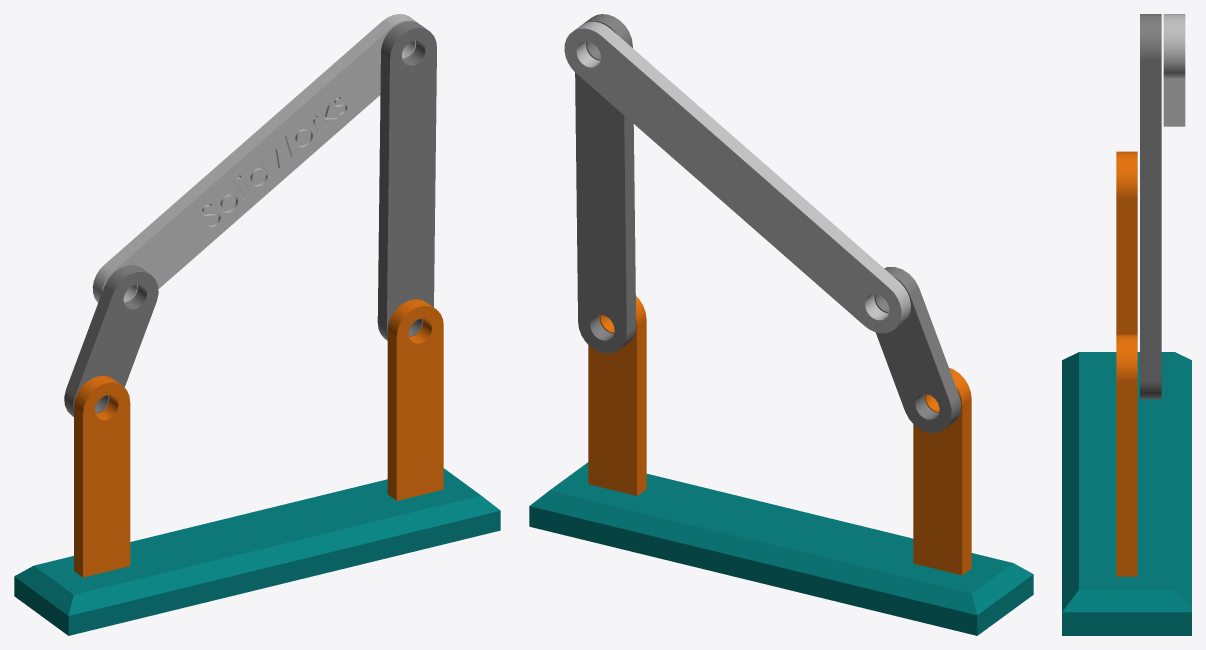
The model's file is simulation1.dae.
3 renders of one model, left to right at view 1: azimuth 30°, elevation 25°; view 2: azimuth 150°, elevation 25°; view 3: azimuth 270°, elevation 25°, orthographic. The views are drawn at different scales.
Visible parts, largest first — view 1: Actor0, Actor4, Actor3, Actor1, Actor2, Actor5; view 2: Actor0, Actor4, Actor3, Actor2, Actor1, Actor5; view 3: Actor0, Actor3, Actor1, Actor2, Actor4.
Part boxes in pixels (x1,y1,x2,y2): Actor0: [14, 468, 500, 635]; Actor4: [92, 14, 418, 302]; Actor3: [377, 21, 436, 340]; Actor1: [387, 299, 443, 500]; Actor2: [74, 375, 130, 577]; Actor5: [64, 265, 158, 416]; Actor0: [529, 462, 1033, 635]; Actor4: [564, 21, 910, 333]; Actor3: [575, 14, 636, 353]; Actor2: [913, 368, 971, 575]; Actor1: [588, 296, 646, 495]; Actor5: [874, 267, 960, 432]; Actor0: [1062, 352, 1191, 635]; Actor3: [1140, 14, 1161, 399]; Actor1: [1116, 334, 1137, 576]; Actor2: [1116, 151, 1137, 334]; Actor4: [1163, 14, 1185, 126].
Bounding box in the file's own units: 0.35 × 0.3803 × 0.0762.
